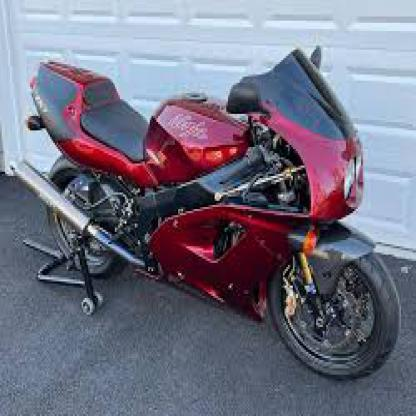Motorcycle: (11, 33, 402, 388)
